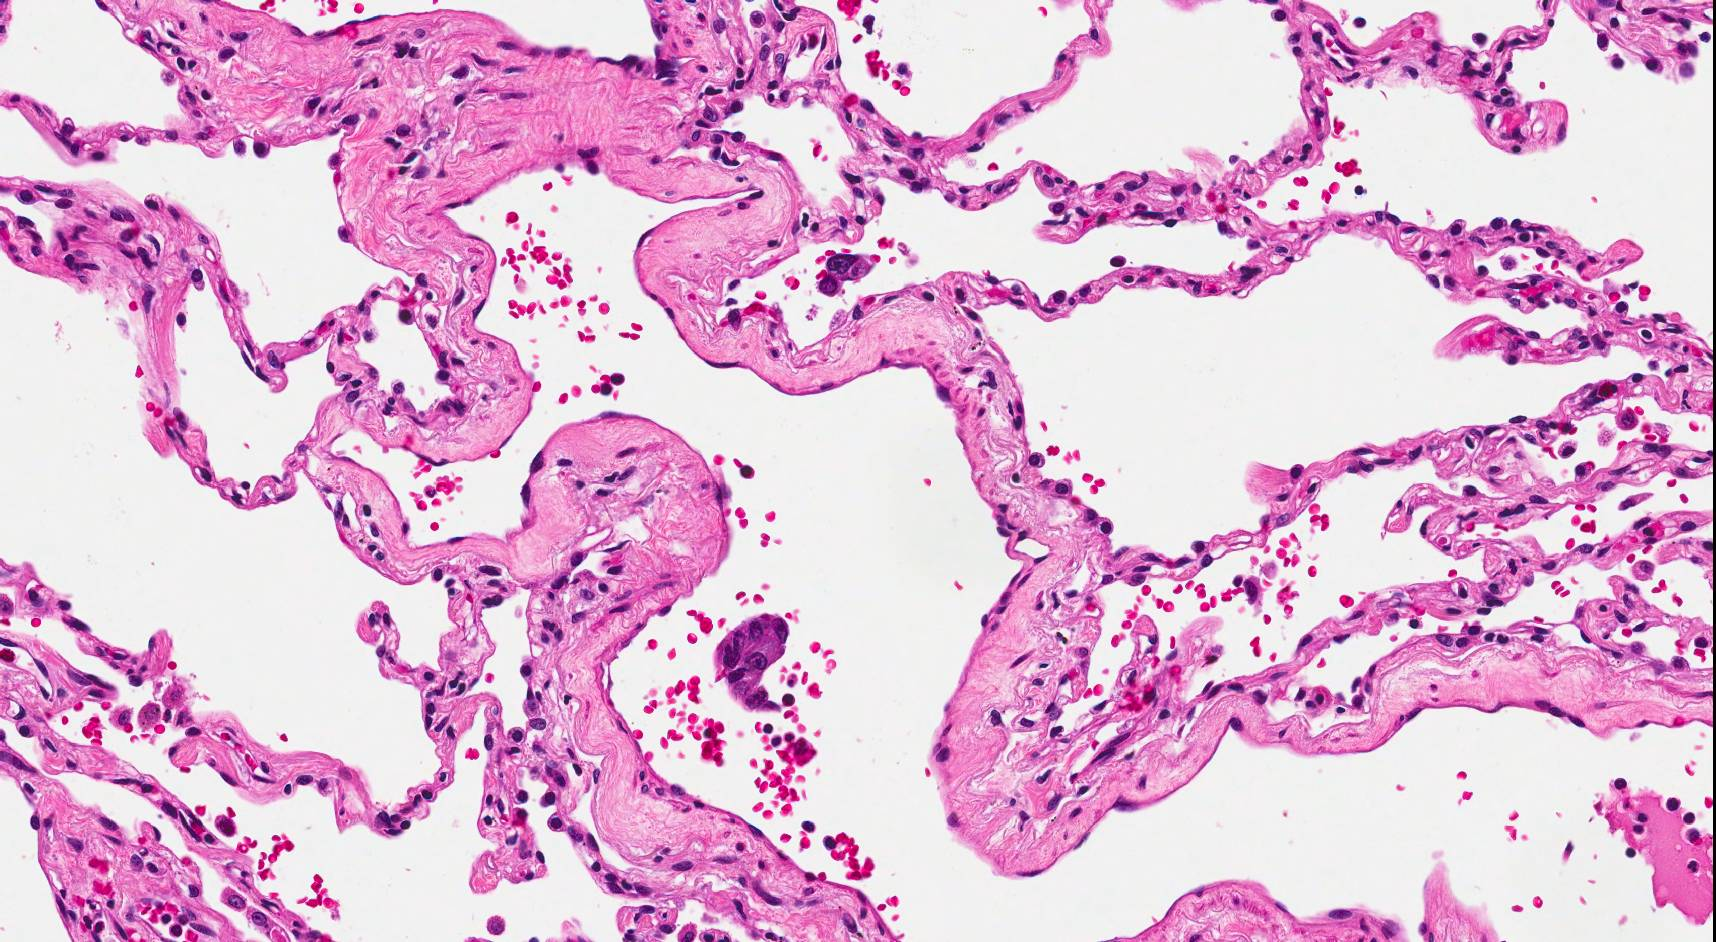stas: (710, 603, 803, 724), (812, 249, 882, 299)
